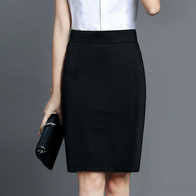F_tailored skirt: (56, 29, 149, 179)
